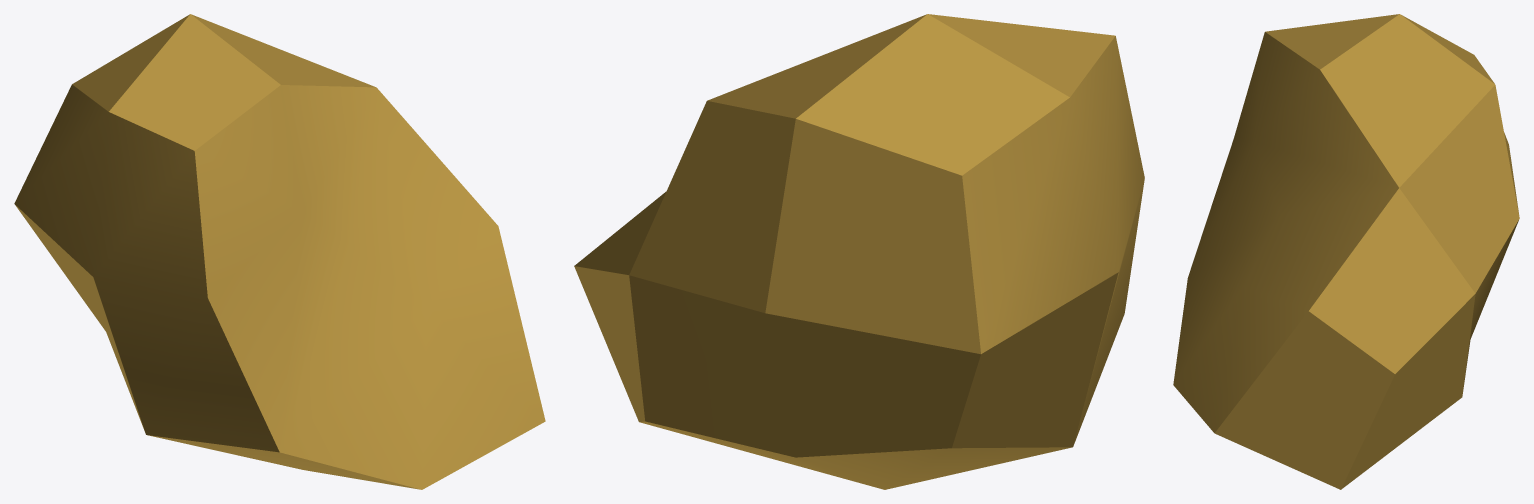
The model's file is rock1.fbx.
3 renders of one model, left to right at view 1: azimuth 30°, elevation 25°; view 2: azimuth 150°, elevation 25°; view 3: azimuth 270°, elevation 25°, orthographic. The views are drawn at different scales.
Visible parts, largest first — view 1: rock1; view 2: rock1; view 3: rock1.
Part boxes in pixels (x1,y1,x2,y2): rock1: (14, 14, 545, 489); rock1: (574, 14, 1144, 489); rock1: (1173, 14, 1519, 489).
Size of the model in its own units: 1.02 by 1.01 by 0.8543.
